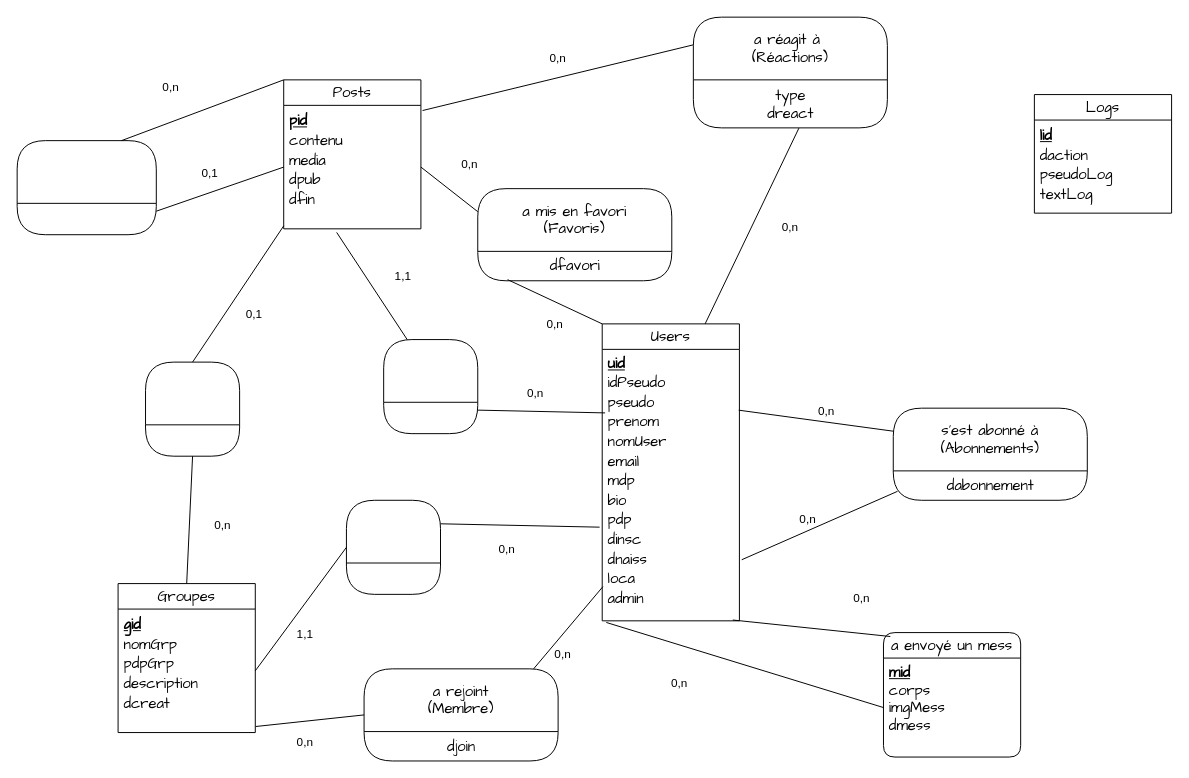
The diagram is 1189 pixels wide and 778 high, and some of its shapes have lost their labels. The shapes that lost their labels are listed below. From the top down, each one's centre as x and y in pixels, then its label:
(86,187): a un post parent
(430,386): a posté
(192,408): appartient à
(393,546): est admin de
